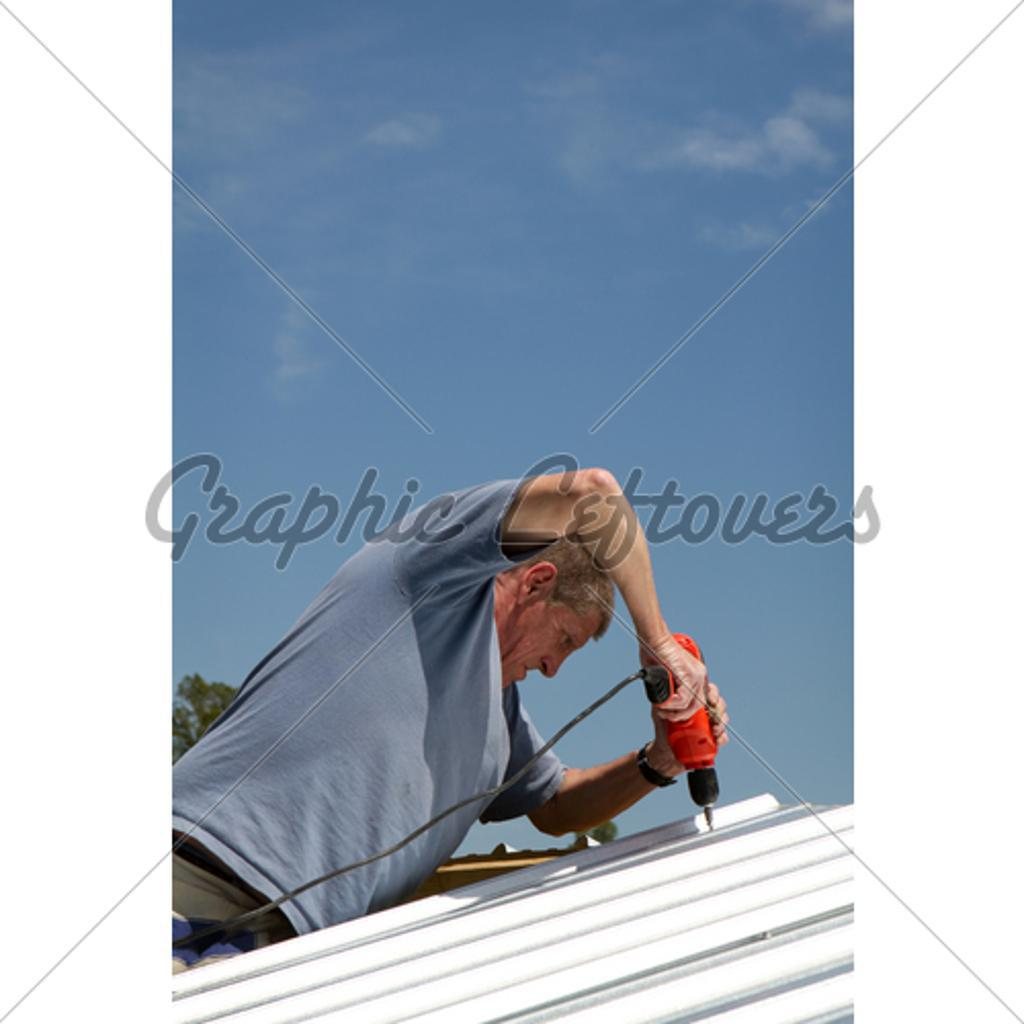face: (475, 577, 609, 681)
